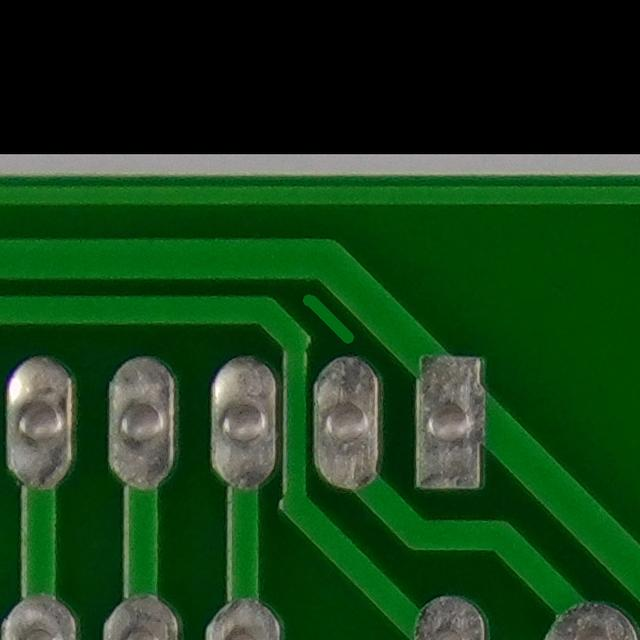spurious_copper: (279, 277, 362, 362)
